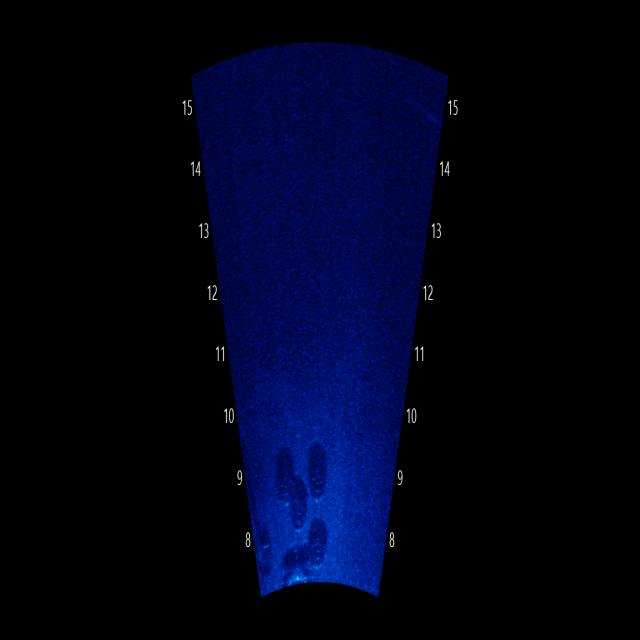circle: (285, 472, 314, 540), (303, 519, 335, 573), (308, 444, 333, 504), (273, 450, 299, 506)
